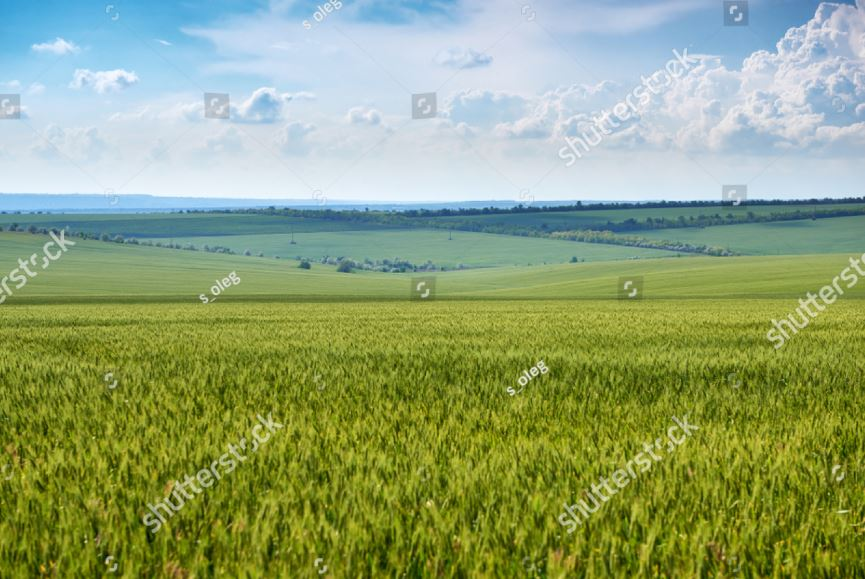Wheat: (268, 331, 510, 432)
